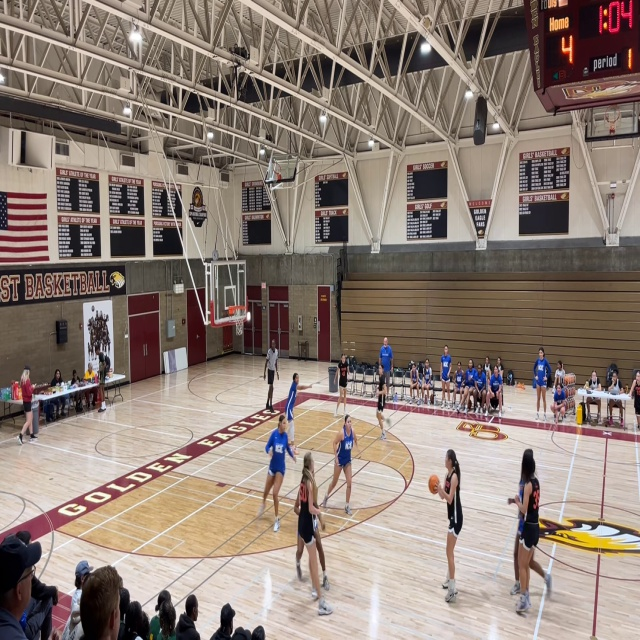Basketball: (428, 475, 439, 494)
